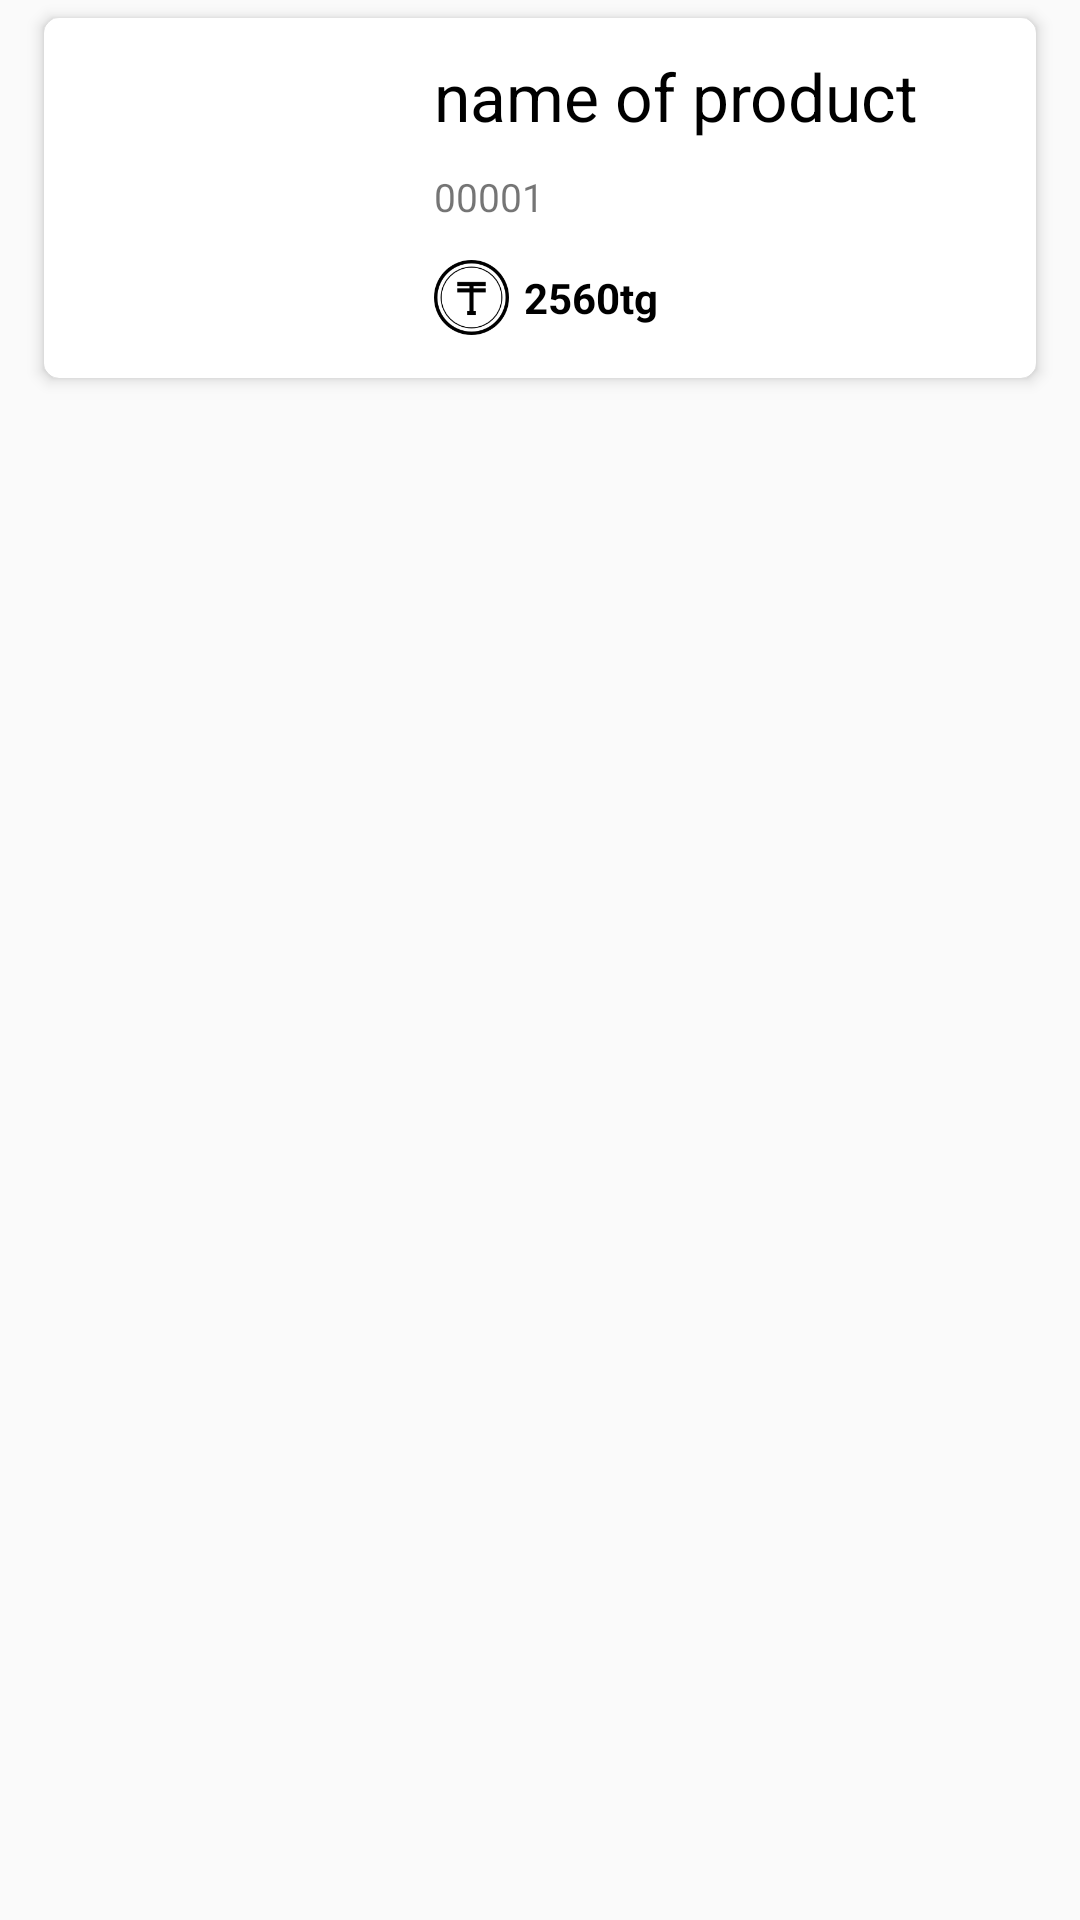

Named icons in this screenshot (1080×1920) and their bounding boxes, bbox(x1, y1, x2, y2):
tenge: bbox(434, 260, 509, 335)
